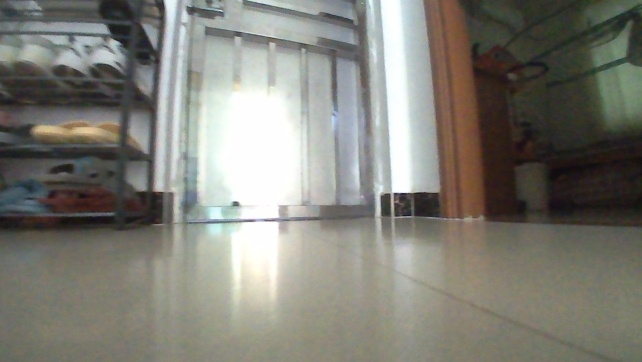door_anno: (175, 0, 376, 224)
